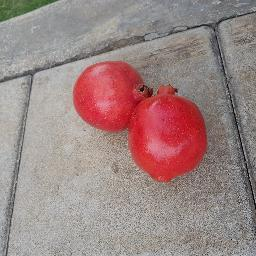Good_pomegranate: (152, 79, 212, 180), (72, 65, 145, 124)
